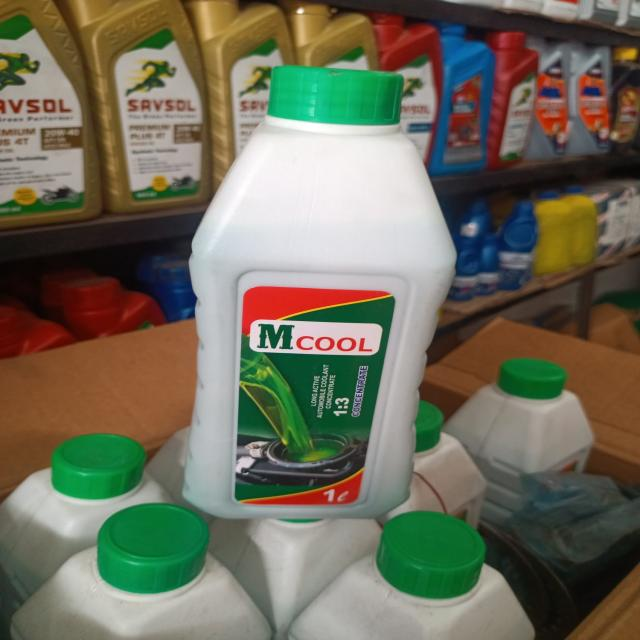coolant: (185, 62, 428, 512)
